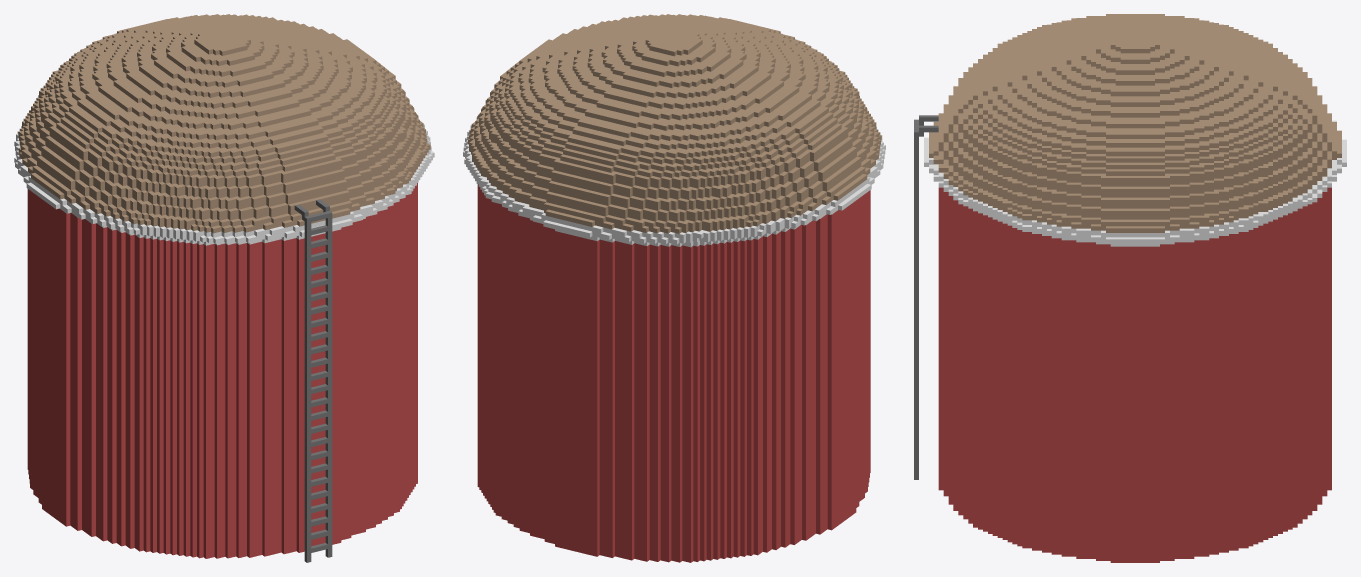
Rendered from Silo.obj.
The picture shows the model from 3 angles, left to right: view 1: azimuth 30°, elevation 25°; view 2: azimuth 150°, elevation 25°; view 3: azimuth 270°, elevation 25°; orthographic projection.
Bounding box in the file's own units: 86 × 99 × 88.
1 material, 1 textured.
